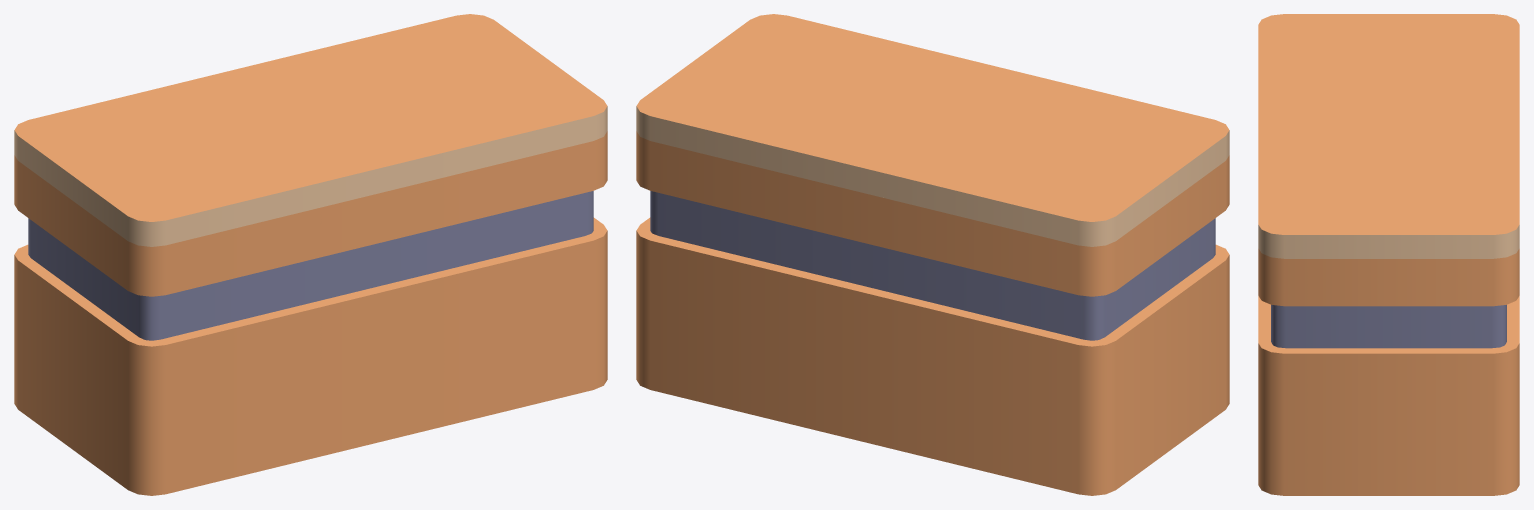
The model's file is planeRounded_2X1.fbx.
The picture shows the model from 3 angles, left to right: view 1: azimuth 30°, elevation 25°; view 2: azimuth 150°, elevation 25°; view 3: azimuth 270°, elevation 25°; orthographic projection. The views are drawn at different scales.
Parts seen in each view (by area): view 1: planeRounded.2X1, planeRounded.2X1.002, planeRounded.2X1.001; view 2: planeRounded.2X1, planeRounded.2X1.001, planeRounded.2X1.002; view 3: planeRounded.2X1, planeRounded.2X1.001, planeRounded.2X1.002.
Boxes of the visible parts, box(x1,y1,x2,y2) form: planeRounded.2X1: box(14, 131, 607, 495); planeRounded.2X1.002: box(73, 60, 607, 246); planeRounded.2X1.001: box(14, 14, 548, 200); planeRounded.2X1: box(636, 131, 1229, 495); planeRounded.2X1.001: box(636, 60, 1170, 246); planeRounded.2X1.002: box(695, 14, 1229, 200); planeRounded.2X1: box(1258, 248, 1519, 495); planeRounded.2X1.001: box(1389, 14, 1519, 258); planeRounded.2X1.002: box(1258, 14, 1388, 258).
Bounding box in the file's own units: 200 × 110 × 100.
